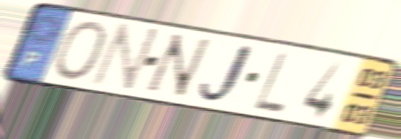4: (299, 58, 347, 122)
J: (195, 41, 258, 107)
L: (251, 49, 290, 116)
N: (87, 21, 164, 96), (139, 32, 215, 101)
O: (50, 19, 109, 83)
